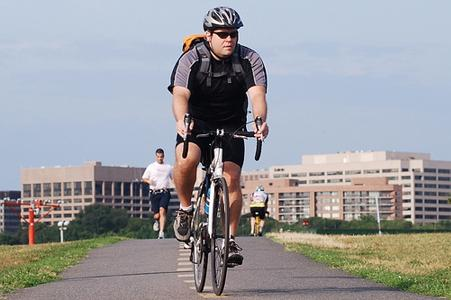person: (166, 6, 269, 269)
